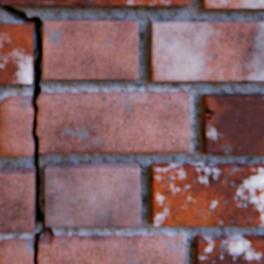brick: (151, 162, 263, 225), (150, 20, 263, 80), (45, 162, 140, 226), (43, 19, 138, 78), (203, 93, 263, 154), (0, 167, 35, 231), (195, 233, 263, 263), (0, 23, 33, 82), (1, 0, 191, 5), (202, 0, 263, 8)
broken_brick: (36, 91, 190, 152), (38, 233, 185, 263), (0, 95, 33, 155), (0, 236, 32, 263)
crack: (0, 0, 53, 263), (205, 105, 214, 118), (62, 0, 80, 5)
